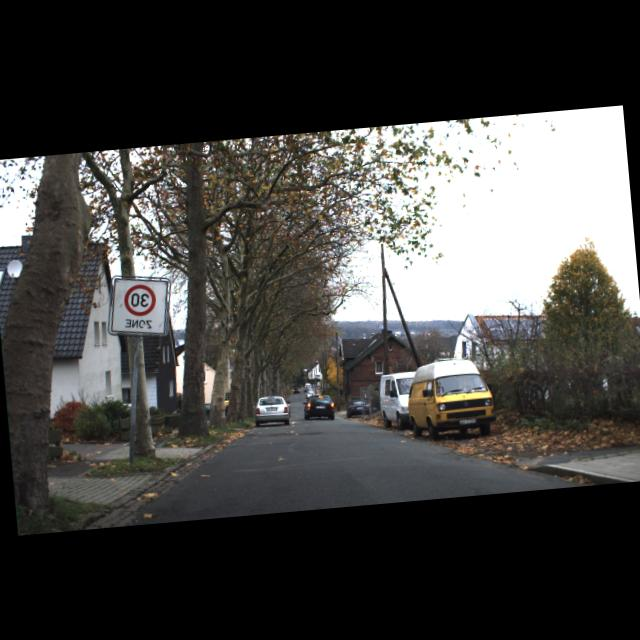prohibitory: (121, 282, 158, 317)
